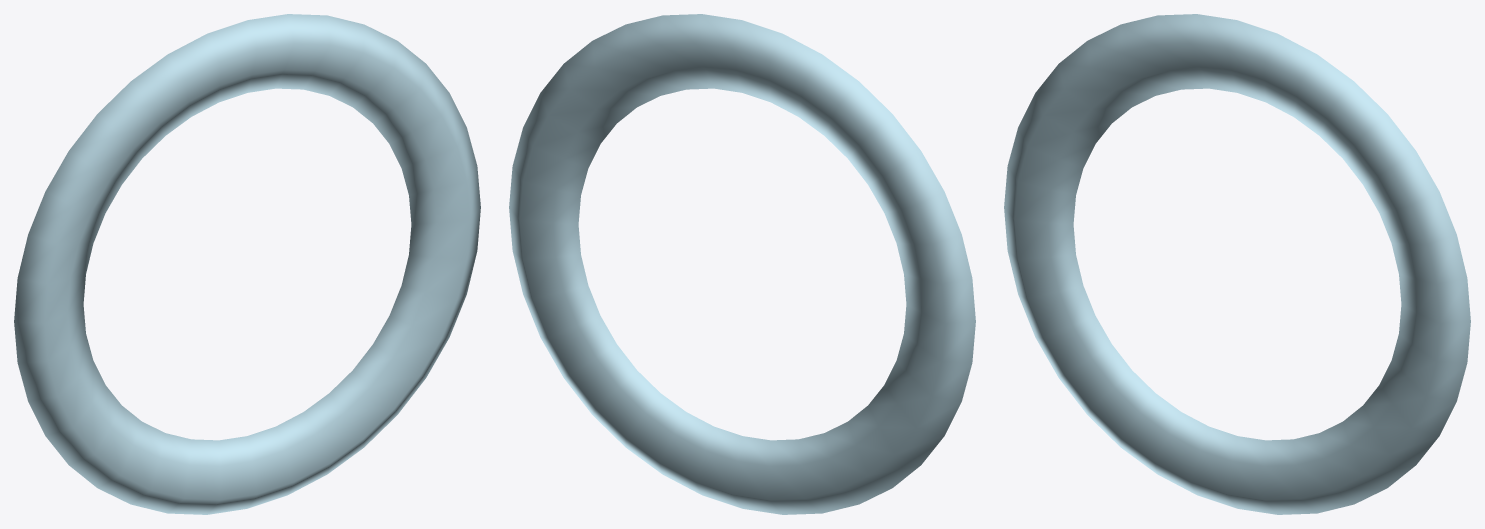
Rendered from crystal-chakram.glb.
3 renders of one model, left to right at view 1: azimuth 30°, elevation 25°; view 2: azimuth 150°, elevation 25°; view 3: azimuth 330°, elevation 25°, orthographic.
Parts seen in each view (by area): view 1: crystal-chakram; view 2: crystal-chakram; view 3: crystal-chakram.
Boxes of the visible parts, x1,y1,x2,y2 form: crystal-chakram: [14, 14, 480, 514]; crystal-chakram: [509, 14, 975, 514]; crystal-chakram: [1004, 14, 1470, 514].
Size of the model in its own units: 0.47 by 0.47 by 0.035.
